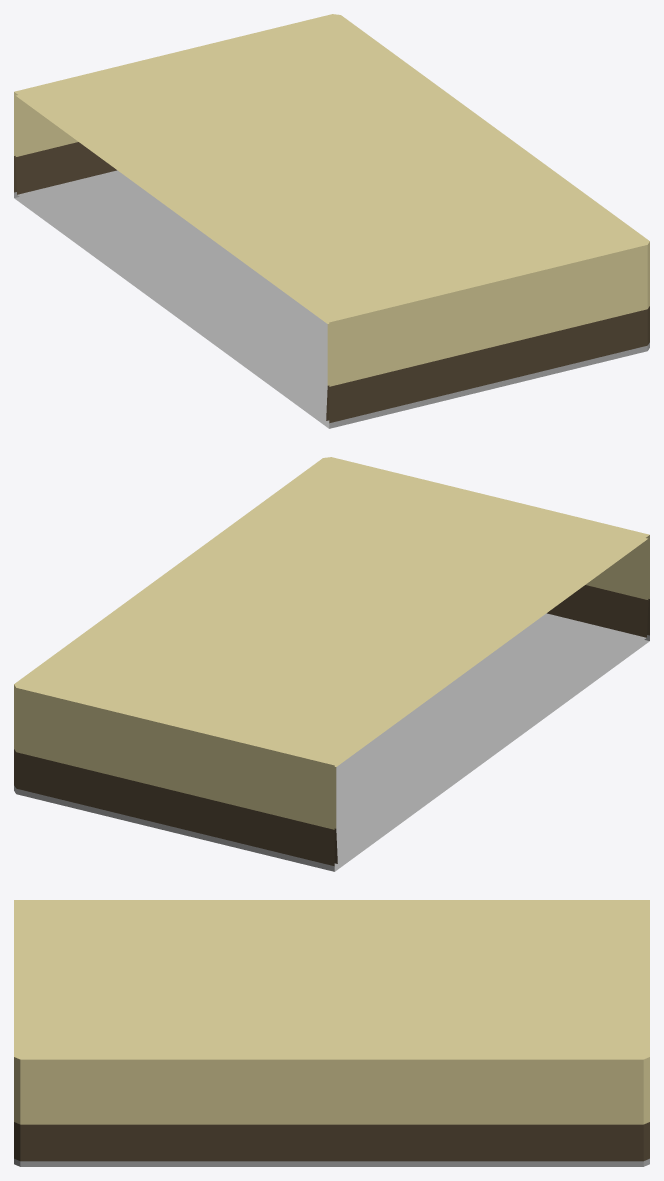
Rendered from interior_school_doorRoom_really_small.fbx.
3 renders of one model, top to bottom at view 1: azimuth 30°, elevation 25°; view 2: azimuth 150°, elevation 25°; view 3: azimuth 270°, elevation 25°, orthographic.
Parts seen in each view (by area): view 1: Visible Mesh; view 2: Visible Mesh; view 3: Visible Mesh.
Part boxes in pixels (x1,y1,x2,y2): Visible Mesh: (14, 14, 649, 428); Visible Mesh: (14, 457, 649, 871); Visible Mesh: (14, 900, 649, 1166).
Bounding box in the file's own units: 1210 × 380 × 2040.
